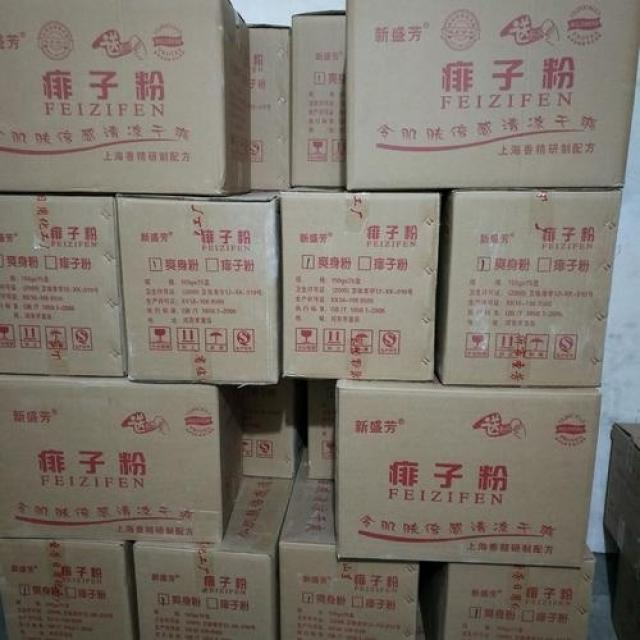box: (346, 1, 639, 191), (333, 372, 602, 567), (0, 372, 244, 544), (434, 188, 623, 388), (115, 191, 283, 385), (280, 186, 439, 383), (279, 443, 419, 640), (134, 476, 294, 639), (0, 195, 124, 375), (438, 543, 598, 639), (0, 538, 138, 639), (292, 10, 347, 188), (244, 24, 293, 191), (243, 378, 305, 480), (307, 379, 337, 480)
